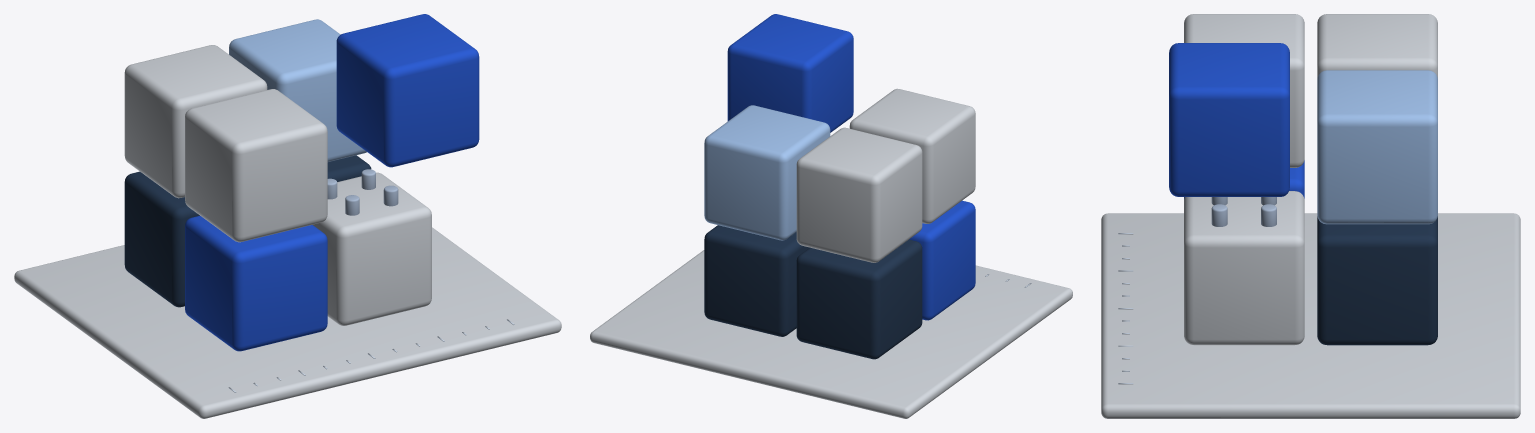
The model's file is modular-form.glb.
3 renders of one model, left to right at view 1: azimuth 30°, elevation 25°; view 2: azimuth 150°, elevation 25°; view 3: azimuth 270°, elevation 25°, orthographic. The views are drawn at different scales.
Visible parts, largest first — view 1: Foundation, Module 1-0-1, Module 1-0-0, Module 0-0-0, Module 0-0-1, Module 1-1-0, Module 1-1-1, Module 0-1-0, Module 0-1-1; view 2: Foundation, Module 1-1-0, Module 0-1-0, Module 1-1-1, Module 1-0-1, Module 0-1-1, Module 1-0-0, Module 0-0-0; view 3: Foundation, Module 1-1-1, Module 1-0-1, Module 0-0-1, Module 0-1-1, Module 1-1-0, Module 1-0-0, Module 0-0-0.
Part boxes in pixels (bbox=[...]): Foundation: bbox=[14, 227, 561, 418]; Module 1-0-1: bbox=[336, 14, 479, 167]; Module 1-0-0: bbox=[185, 89, 327, 242]; Module 0-0-0: bbox=[185, 215, 327, 351]; Module 0-0-1: bbox=[312, 172, 431, 325]; Module 1-1-0: bbox=[124, 45, 267, 198]; Module 1-1-1: bbox=[229, 19, 366, 161]; Module 0-1-0: bbox=[124, 171, 199, 307]; Module 0-1-1: bbox=[327, 155, 371, 181]; Foundation: bbox=[590, 250, 1072, 418]; Module 1-1-0: bbox=[796, 127, 922, 262]; Module 0-1-0: bbox=[796, 239, 922, 359]; Module 1-1-1: bbox=[704, 105, 830, 240]; Module 1-0-1: bbox=[727, 14, 853, 132]; Module 0-1-1: bbox=[704, 225, 809, 336]; Module 1-0-0: bbox=[849, 88, 975, 223]; Module 0-0-0: bbox=[909, 200, 975, 320]; Foundation: bbox=[1101, 213, 1520, 418]; Module 1-1-1: bbox=[1317, 70, 1437, 224]; Module 1-0-1: bbox=[1169, 43, 1289, 196]; Module 0-0-1: bbox=[1184, 191, 1304, 345]; Module 0-1-1: bbox=[1317, 216, 1437, 345]; Module 1-1-0: bbox=[1317, 14, 1437, 78]; Module 1-0-0: bbox=[1184, 14, 1304, 167]; Module 0-0-0: bbox=[1184, 160, 1304, 198].
Size of the model in its own units: 3.75 by 2.71 by 3.4.
